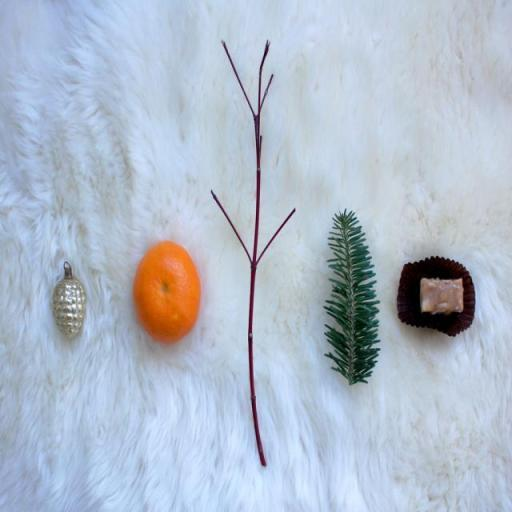fruit: (134, 240, 199, 342)
